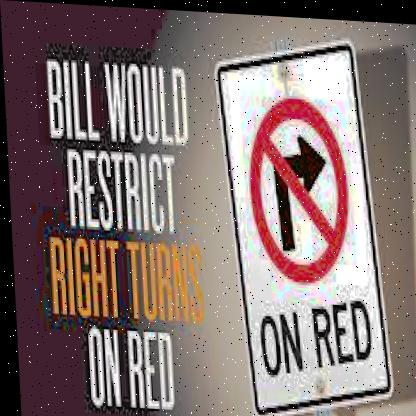No right turn: (235, 87, 348, 283)
